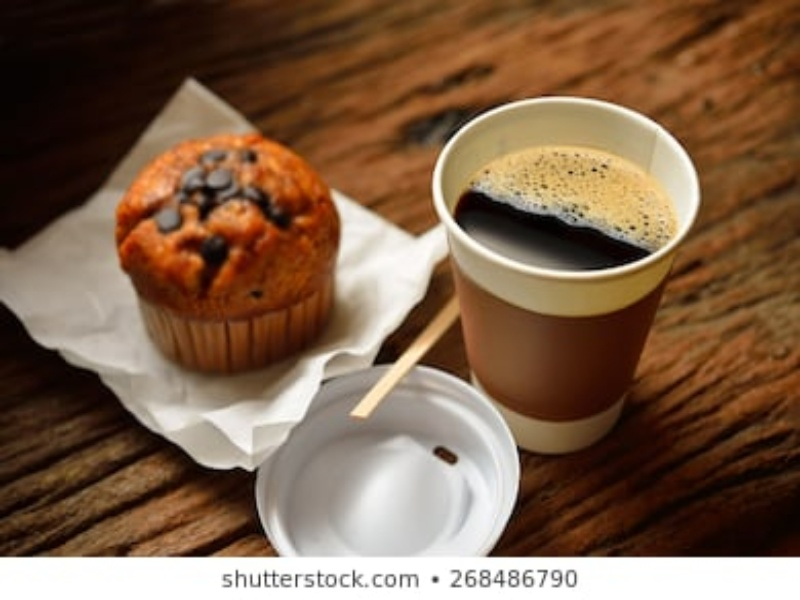coffee-lid: (253, 361, 525, 559)
